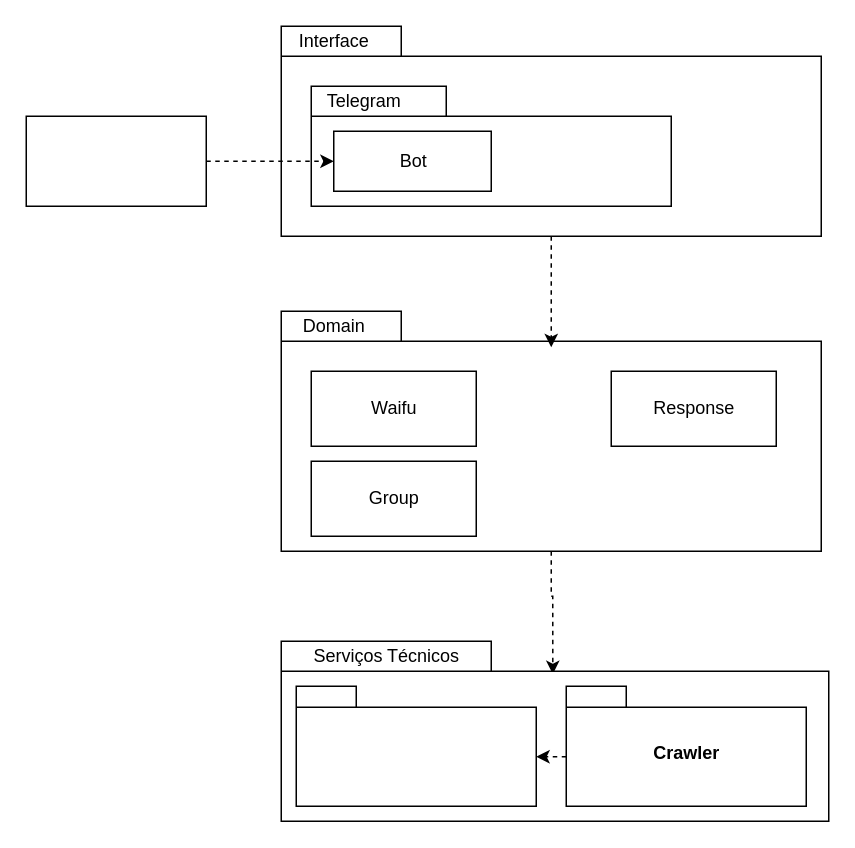
This 855x848 diagram has some shape labels left out. Here are the shapes that lost their labels. From the top down, the box of each, then its label:
(25, 115, 206, 206): Main
(295, 685, 536, 806): Database
